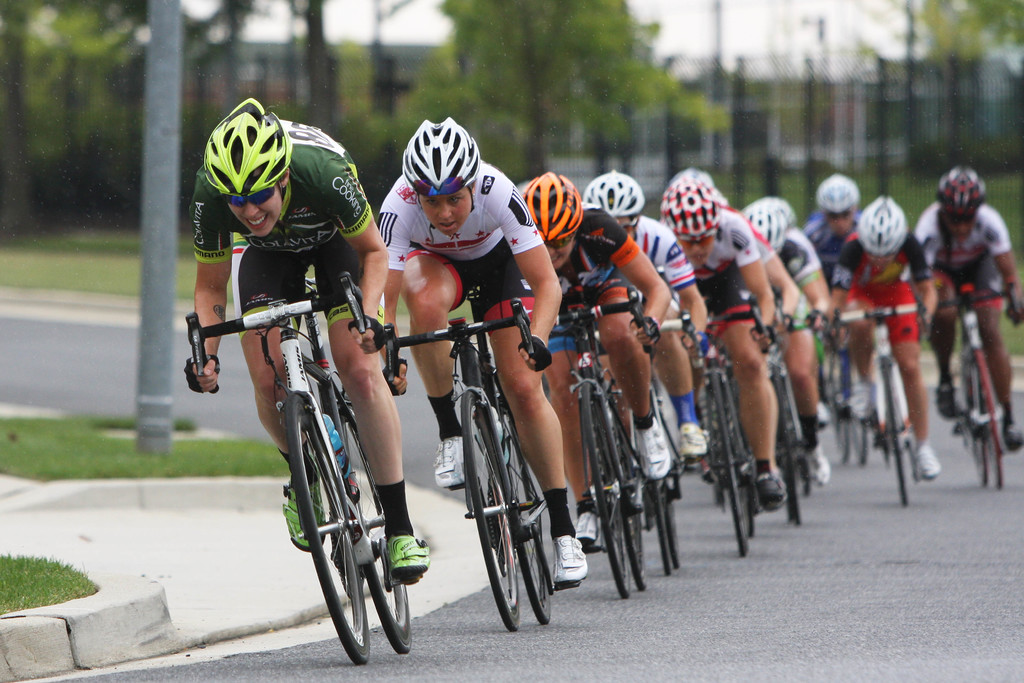Wheel: (285, 393, 370, 665), (338, 391, 412, 654), (498, 399, 549, 625), (581, 382, 629, 600), (711, 370, 748, 556), (611, 417, 646, 590), (970, 350, 1005, 488), (774, 367, 801, 527), (880, 358, 909, 506), (959, 374, 991, 485), (833, 350, 850, 463), (650, 481, 670, 575), (664, 476, 679, 567), (781, 455, 795, 522), (851, 415, 866, 465), (741, 482, 753, 535), (882, 445, 888, 466)
